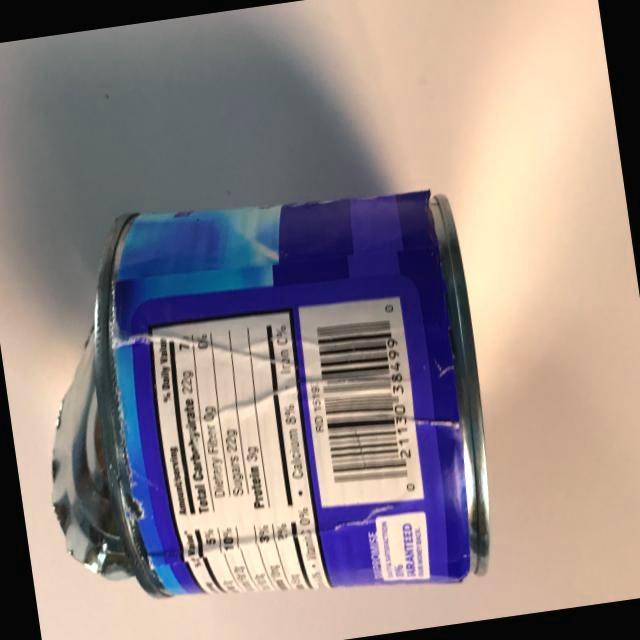metal: (0, 134, 542, 634)
